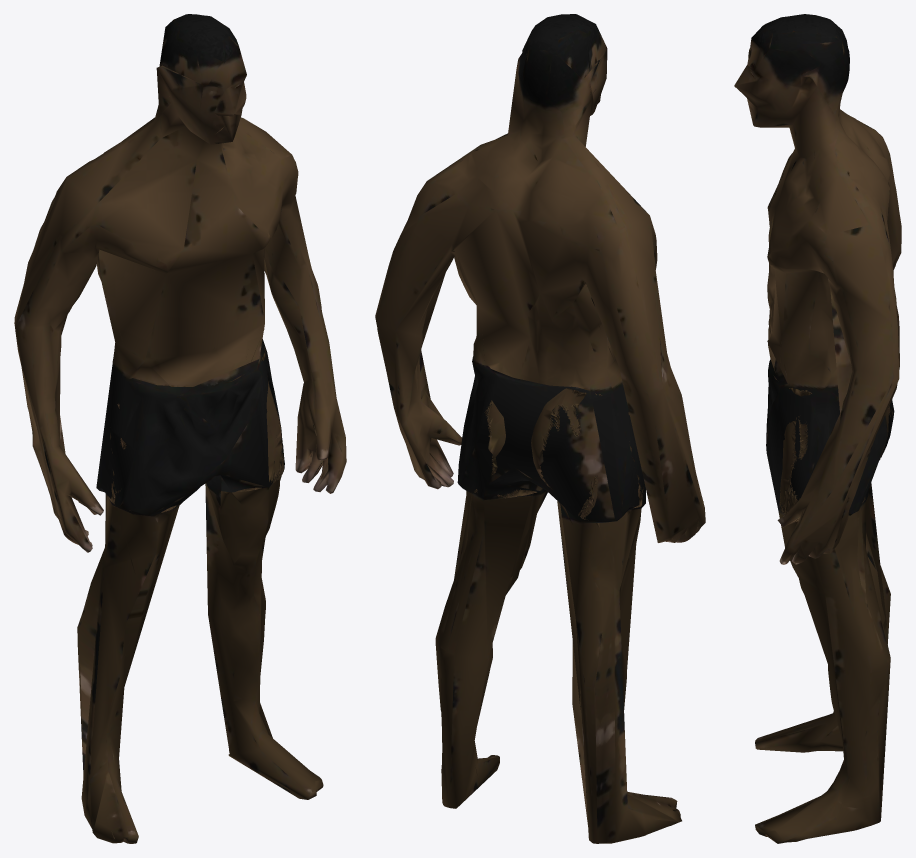
The model's file is 3d_female_model_uvsafe.glb.
The picture shows the model from 3 angles, left to right: view 1: azimuth 30°, elevation 25°; view 2: azimuth 150°, elevation 25°; view 3: azimuth 270°, elevation 25°; orthographic projection.
Visible parts, largest first — view 1: geometry_0; view 2: geometry_0; view 3: geometry_0.
Boxes of the visible parts, x1,y1,x2,y2 form: geometry_0: (14,14,346,843); geometry_0: (375,14,705,843); geometry_0: (734,14,901,843).
Size of the model in its own units: 0.3955 by 1 by 0.1965.
Materials: 1 (1 with a texture image).
